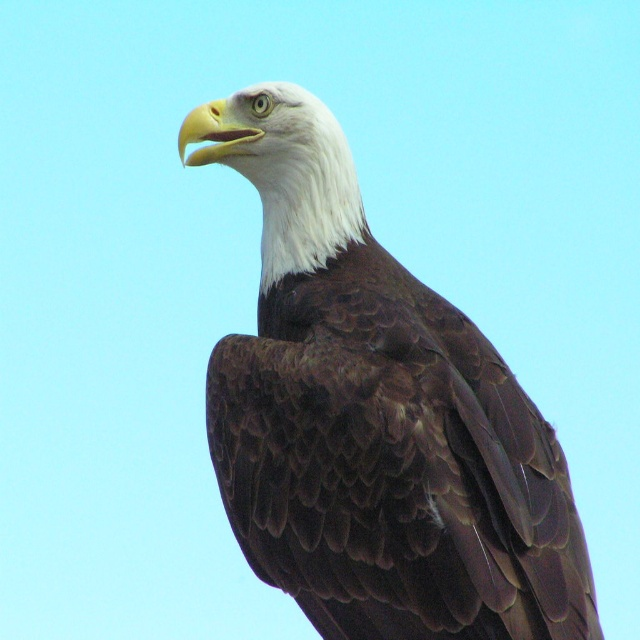Eagle: (178, 79, 603, 639)
